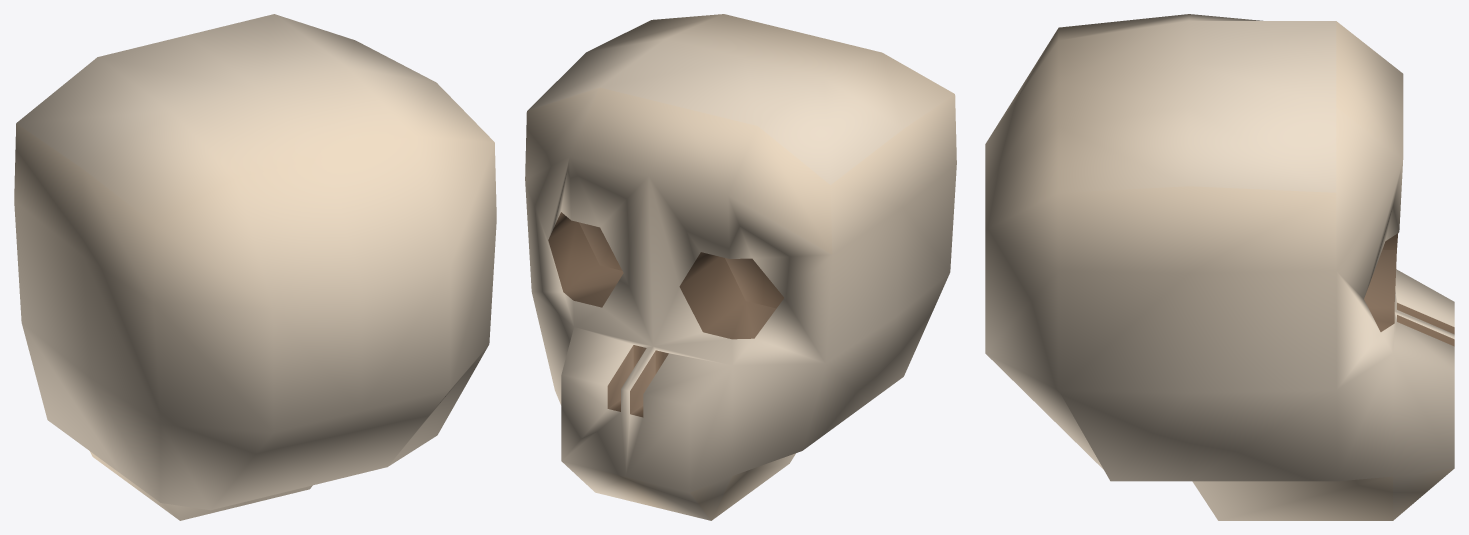
Rendered from skull.fbx.
The picture shows the model from 3 angles, left to right: view 1: azimuth 30°, elevation 25°; view 2: azimuth 150°, elevation 25°; view 3: azimuth 270°, elevation 25°; orthographic projection. The views are drawn at different scales.
Visible parts, largest first — view 1: skull; view 2: skull; view 3: skull.
Boxes of the visible parts, <box> form: skull: <box>14,14,496,520</box>; skull: <box>525,14,956,520</box>; skull: <box>985,14,1454,520</box>.
Size of the model in its own units: 200 by 230 by 230.
Materials: 1 (1 with a texture image).
